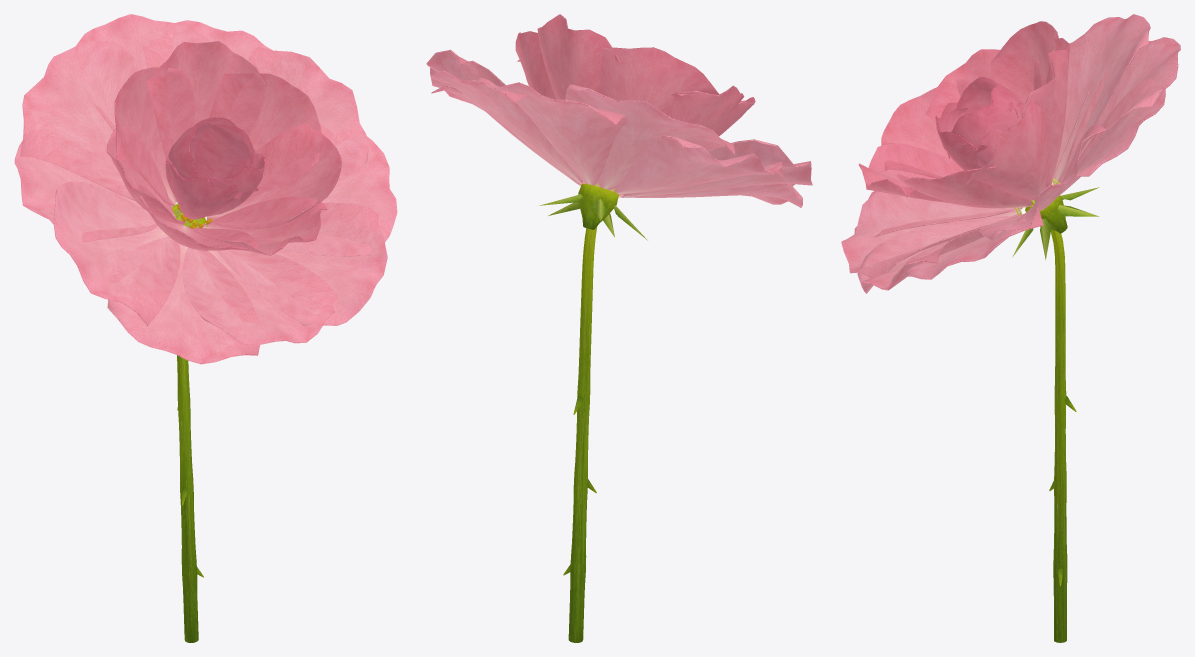
The model's file is rose_22.glb.
3 views of the same model, side by side, from view 1: azimuth 30°, elevation 25°; view 2: azimuth 150°, elevation 25°; view 3: azimuth 270°, elevation 25° (orthographic). The views are drawn at different scales.
Visible parts, largest first — view 1: Petal_1_outer_03, Petal_3_outer_04, Petal_5_outer_04, Petal_4_outer_01, Petal_6_outer_02, Petal_14_middle_03, Petal_15_middle_01, Petal_8_outer_02, Petal_13_middle_02, Petal_12_middle_04, Petal_7_outer_03, Petal_11_middle_03 (+11 smaller); view 2: Stem_Skinned, Petal_0_outer_01, Petal_2_outer_02, Petal_1_outer_03, Petal_15_middle_01, Petal_14_middle_03, Petal_9_outer_03, Petal_3_outer_04, Petal_16_middle_02, Hypanthium_and_five_sepals, Petal_8_outer_02, Petal_4_outer_01 (+1 smaller); view 3: Petal_1_outer_03, Stem_Skinned, Petal_5_outer_04, Petal_13_middle_02, Petal_6_outer_02, Petal_0_outer_01, Petal_15_middle_01, Petal_11_middle_03, Petal_9_outer_03, Petal_10_middle_01, Petal_14_middle_03, Petal_12_middle_04 (+9 smaller).
Boxes of the visible parts, box(x1,y1,x2,y2) form: Petal_1_outer_03: box(20, 41, 140, 200); Petal_3_outer_04: box(53, 181, 180, 326); Petal_5_outer_04: box(182, 247, 337, 344); Petal_4_outer_01: box(107, 237, 259, 364); Petal_6_outer_02: box(217, 202, 387, 326); Petal_14_middle_03: box(146, 41, 266, 157); Petal_15_middle_01: box(114, 67, 195, 206); Petal_8_outer_02: box(247, 47, 369, 180); Petal_13_middle_02: box(209, 73, 321, 197); Petal_12_middle_04: box(206, 123, 341, 229); Petal_7_outer_03: box(282, 123, 397, 256); Petal_11_middle_03: box(195, 196, 327, 255); Stem_Skinned: box(563, 226, 597, 642); Petal_0_outer_01: box(478, 77, 627, 185); Petal_2_outer_02: box(615, 135, 784, 194); Petal_1_outer_03: box(565, 84, 734, 190); Petal_15_middle_01: box(598, 47, 719, 115); Petal_14_middle_03: box(537, 14, 623, 99); Petal_9_outer_03: box(430, 70, 583, 182); Petal_3_outer_04: box(623, 139, 812, 197); Petal_16_middle_02: box(668, 85, 744, 129); Hypanthium_and_five_sepals: box(538, 183, 647, 240); Petal_8_outer_02: box(426, 49, 577, 183); Petal_4_outer_01: box(618, 183, 802, 207); Petal_1_outer_03: box(1052, 14, 1150, 184); Stem_Skinned: box(1049, 229, 1076, 642); Petal_5_outer_04: box(841, 191, 1020, 278); Petal_13_middle_02: box(966, 99, 1048, 200); Petal_6_outer_02: box(857, 215, 1017, 293); Petal_0_outer_01: box(1060, 37, 1180, 183); Petal_15_middle_01: box(991, 21, 1058, 105); Petal_11_middle_03: box(858, 142, 963, 203); Petal_9_outer_03: box(1058, 77, 1165, 196); Petal_10_middle_01: box(881, 78, 971, 178); Petal_14_middle_03: box(1021, 38, 1070, 187); Petal_12_middle_04: box(897, 164, 1031, 208).
Size of the model in its own units: 0.1975 by 0.3311 by 0.1706.
Materials: 7 (7 with a texture image).
